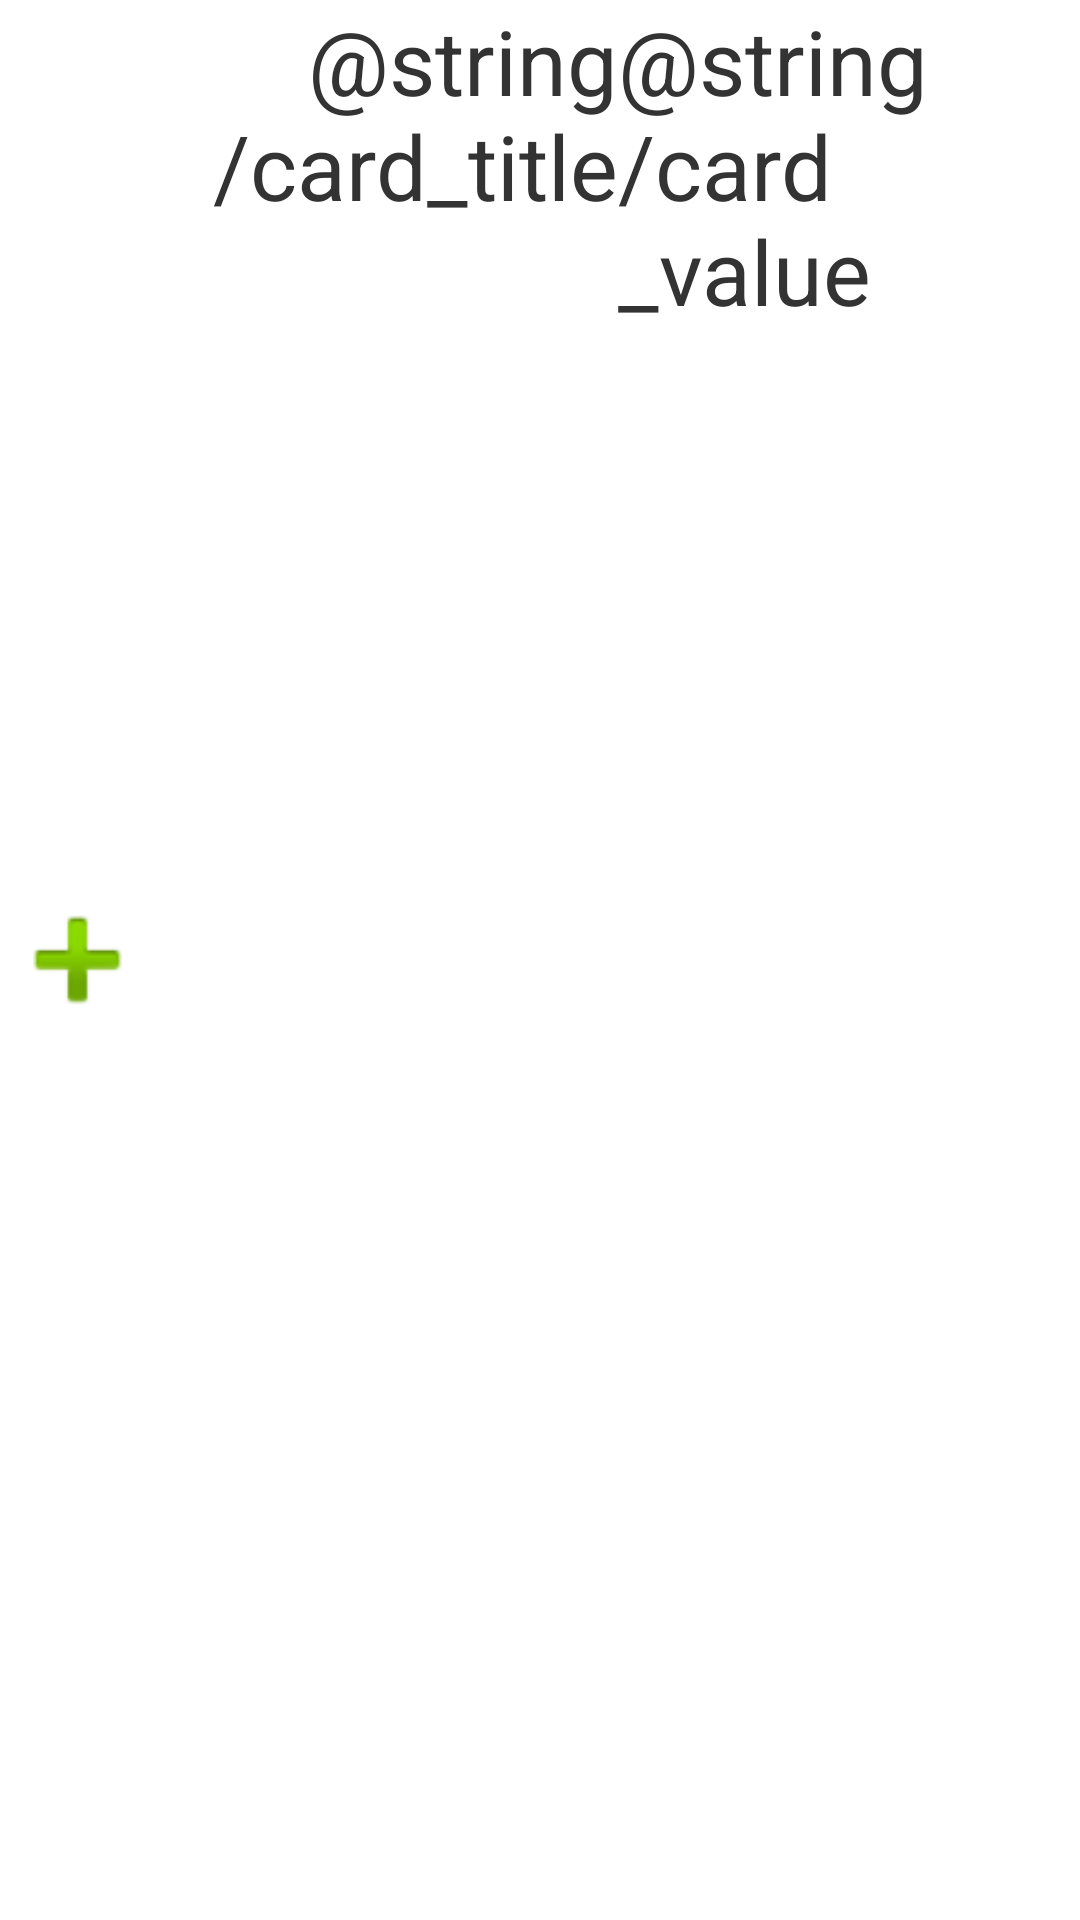

Screen size 1080px×1920px. Icon name, then its box in pixels as Rect(x1, y1, x2, y2):
add: Rect(33, 916, 122, 1004)
